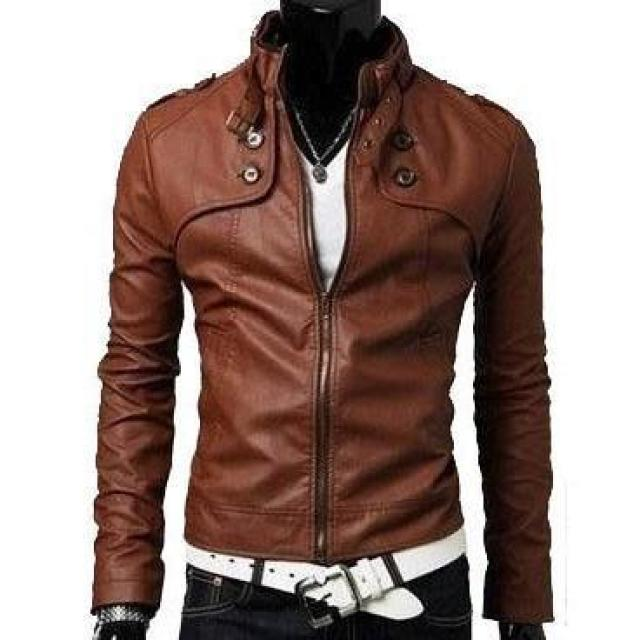jacket: (97, 29, 559, 618)
